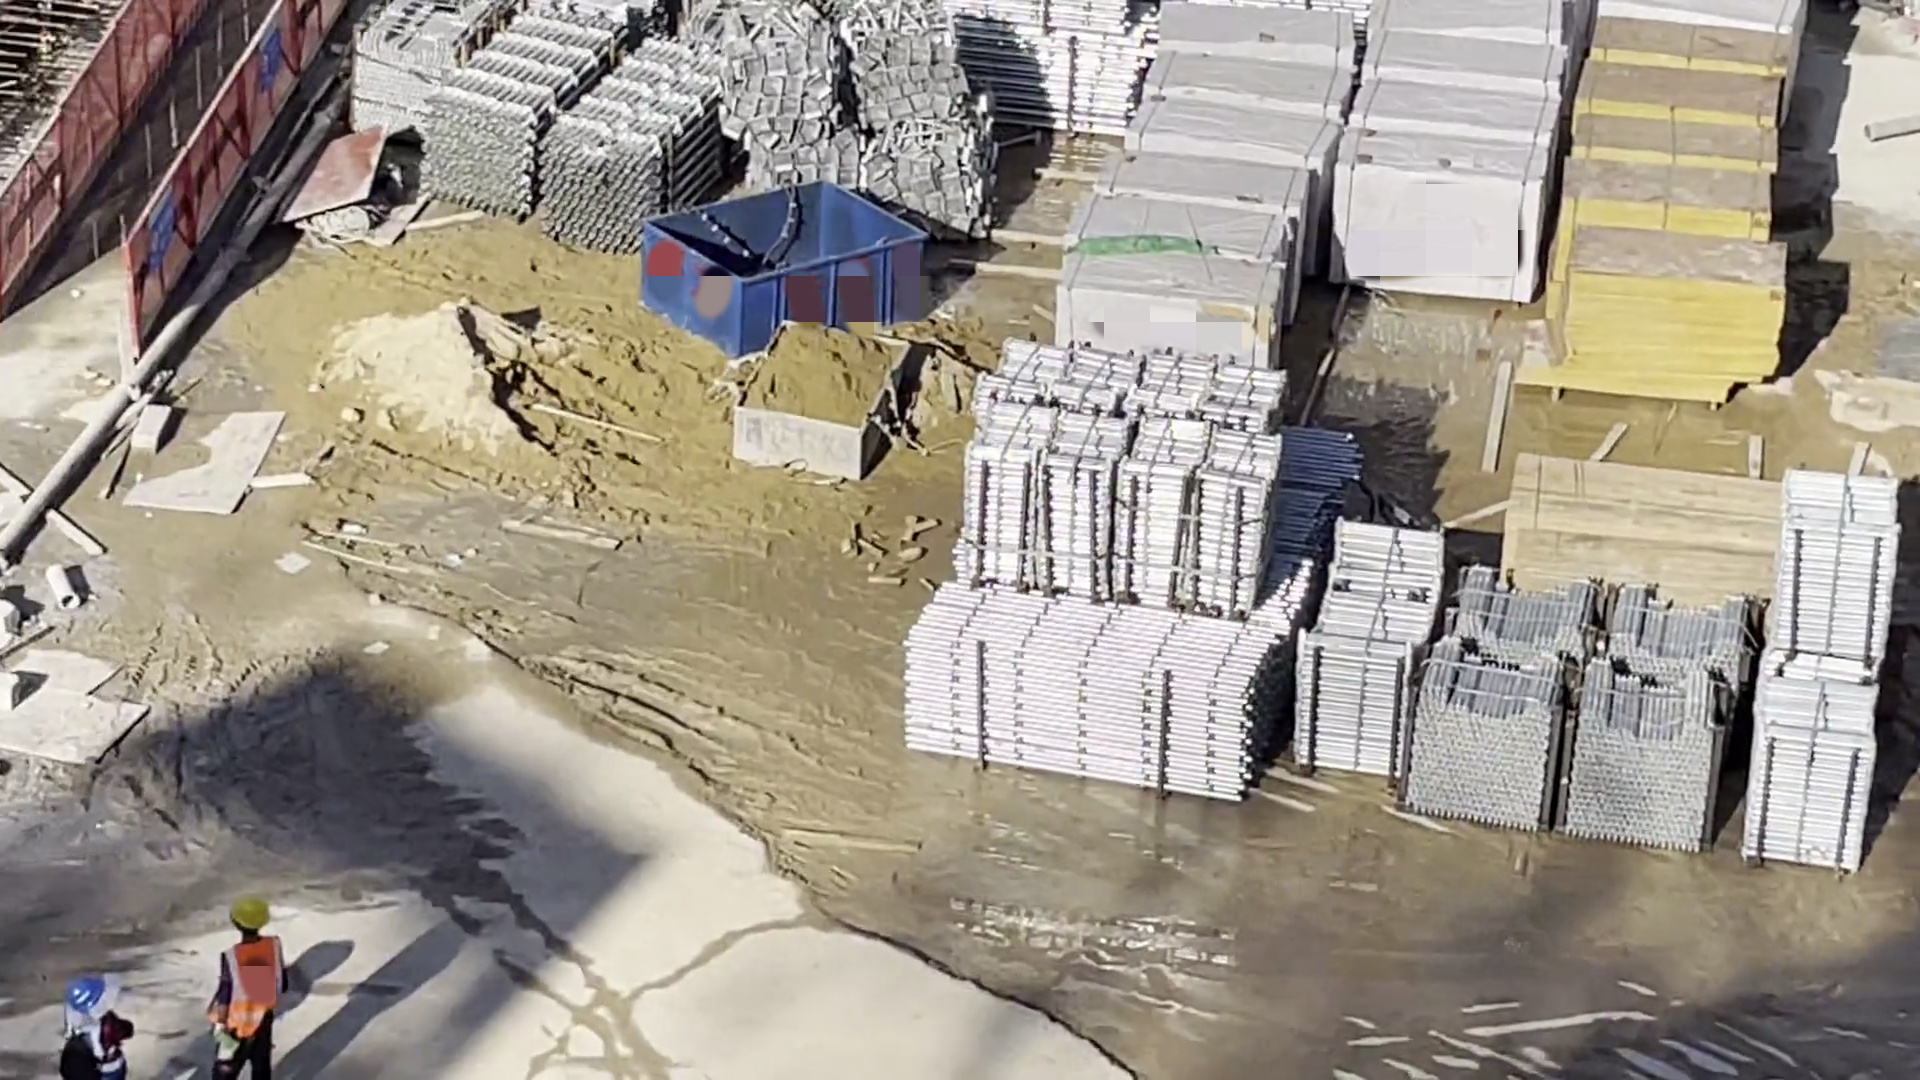board: (1553, 264, 1781, 391), (1608, 39, 1783, 166), (1556, 164, 1779, 257)
fence: (1, 27, 346, 349)
helmet: (76, 976, 114, 1021), (234, 897, 269, 936)
hopper: (651, 184, 913, 354)
person: (224, 885, 303, 1050), (71, 978, 131, 1075)
scaffold: (884, 579, 1236, 772), (941, 344, 1233, 574), (1318, 516, 1464, 789), (418, 1, 589, 222), (544, 24, 696, 262), (1433, 579, 1564, 831), (1599, 611, 1744, 812), (1758, 459, 1908, 637), (986, 2, 1136, 146), (1774, 671, 1879, 864), (359, 1, 466, 161)
vest: (221, 949, 278, 1041), (83, 1016, 124, 1074)
wood: (1511, 436, 1763, 592)
